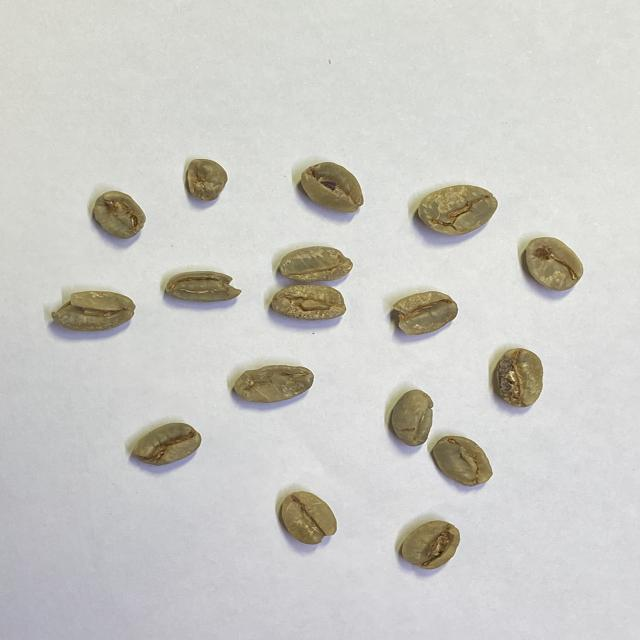bad: (417, 184, 499, 238), (50, 289, 136, 333), (300, 160, 366, 215), (524, 235, 586, 292), (232, 363, 315, 403), (131, 421, 203, 467), (432, 434, 494, 487), (400, 519, 462, 571), (493, 346, 544, 408), (391, 290, 459, 336), (278, 245, 354, 284), (270, 284, 348, 322), (92, 189, 147, 241), (163, 270, 243, 304), (391, 388, 435, 447), (185, 157, 229, 203)
good: (279, 490, 340, 547)
